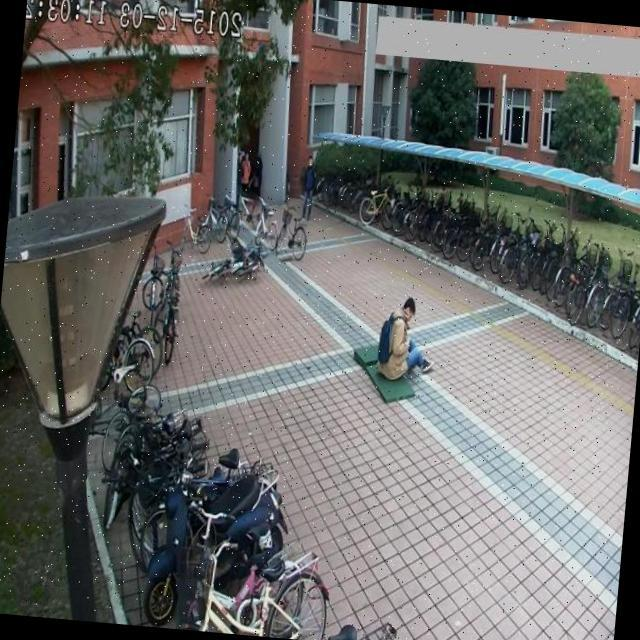person: (374, 288, 440, 387), (296, 149, 322, 224)
